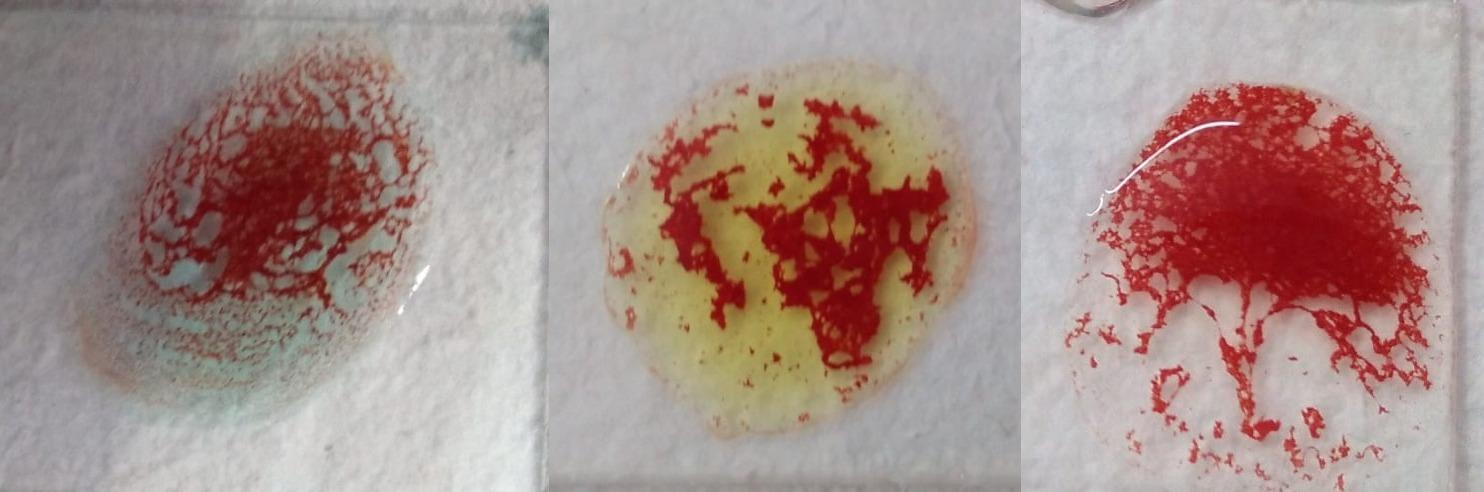A: (77, 35, 433, 424)
B: (610, 70, 971, 417)
D: (1072, 83, 1461, 481)
